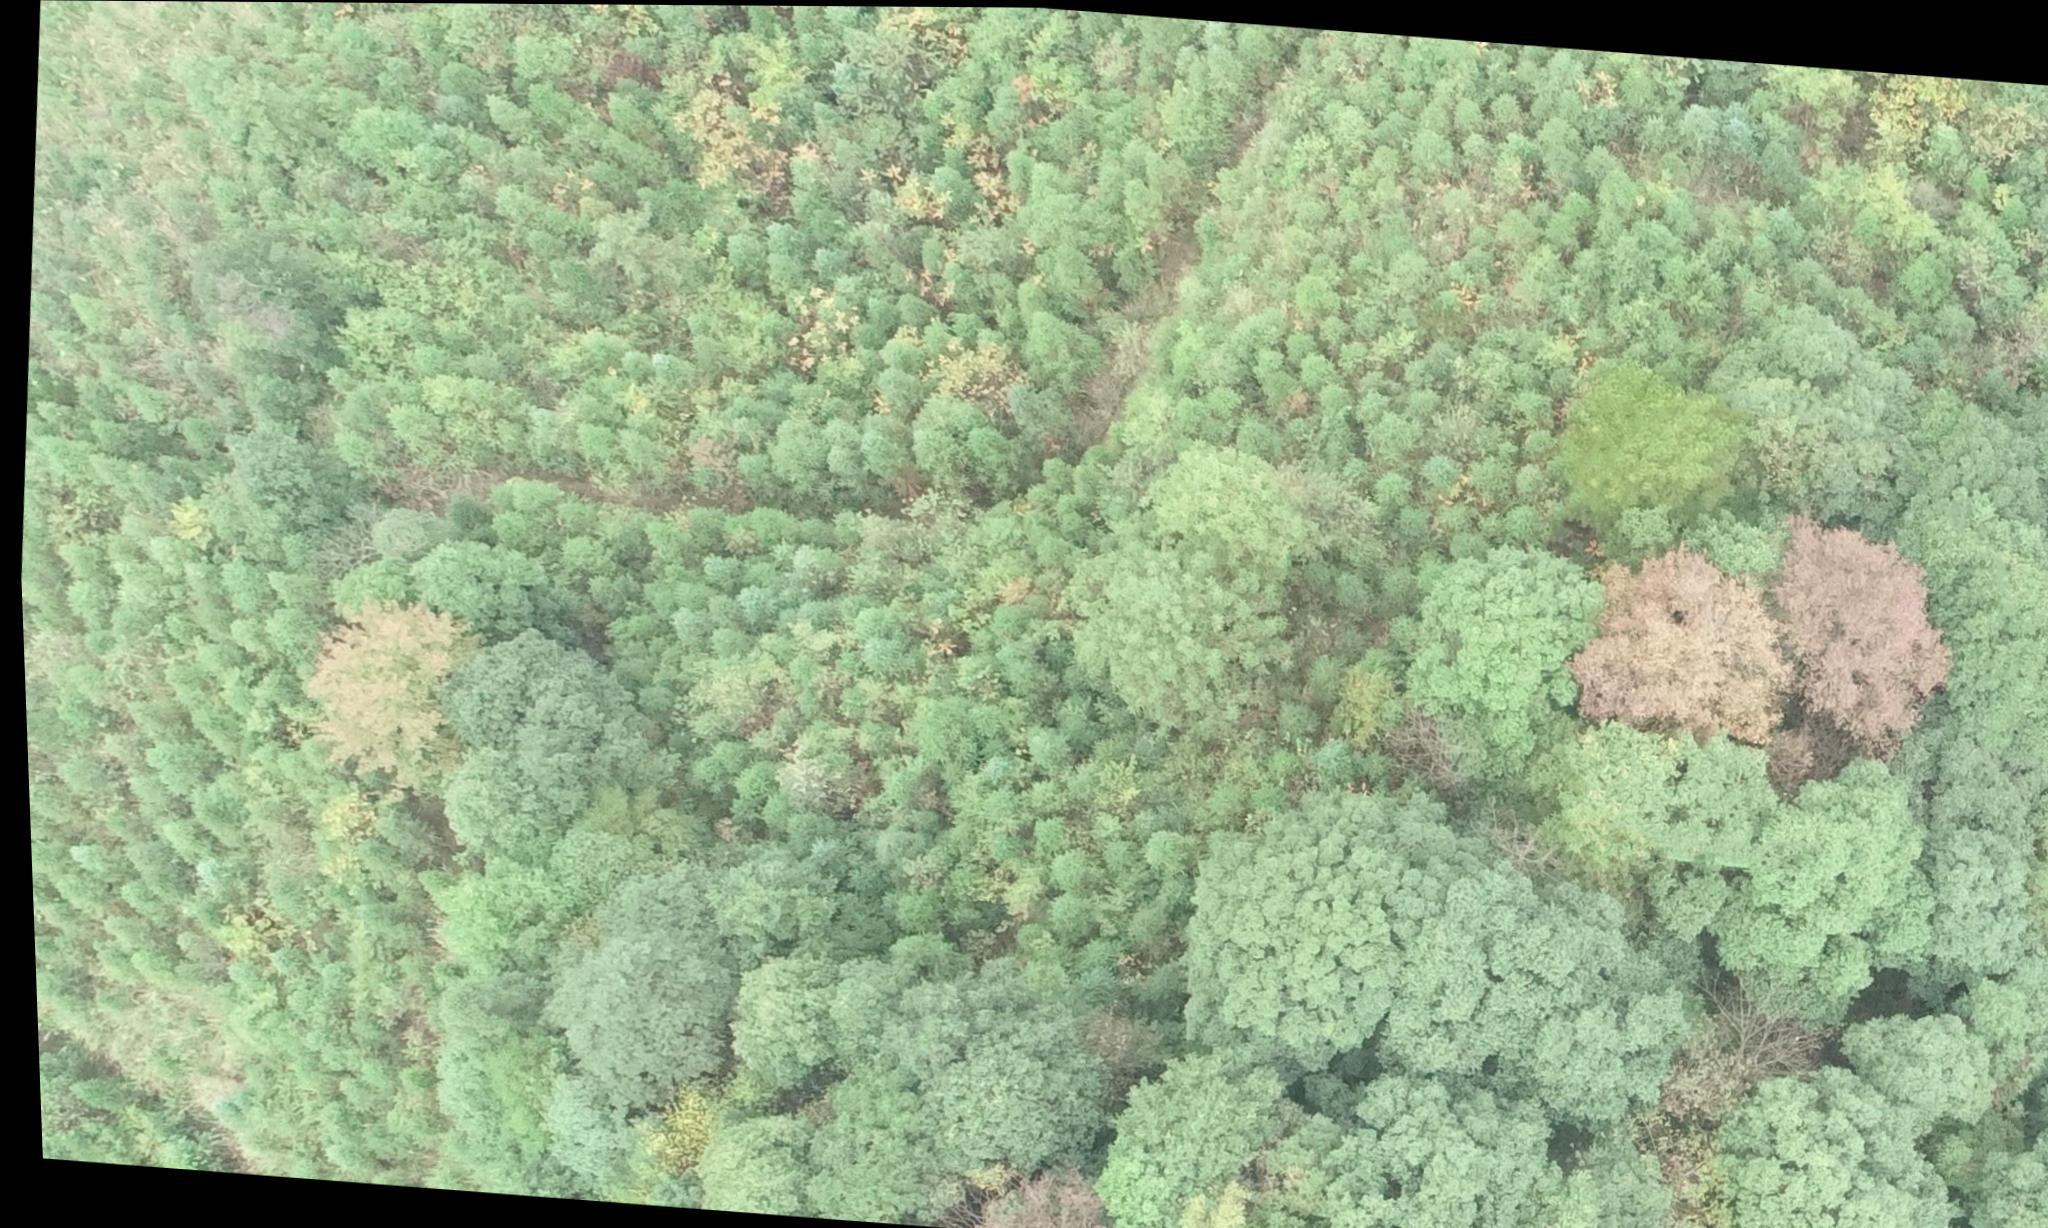heavy: (1552, 490, 1965, 770)
